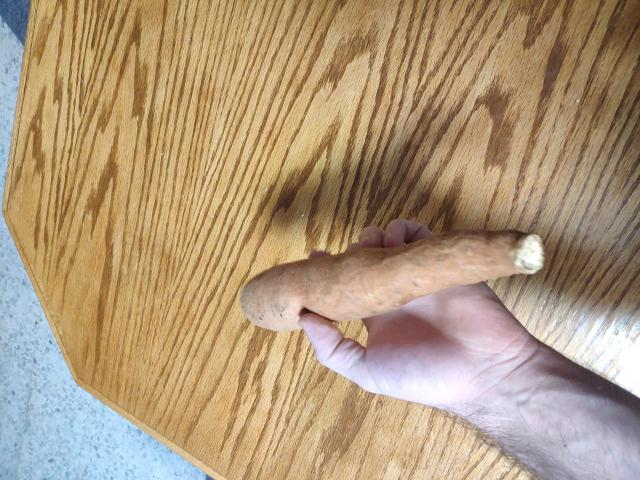sweet_potato: (221, 227, 532, 318)
